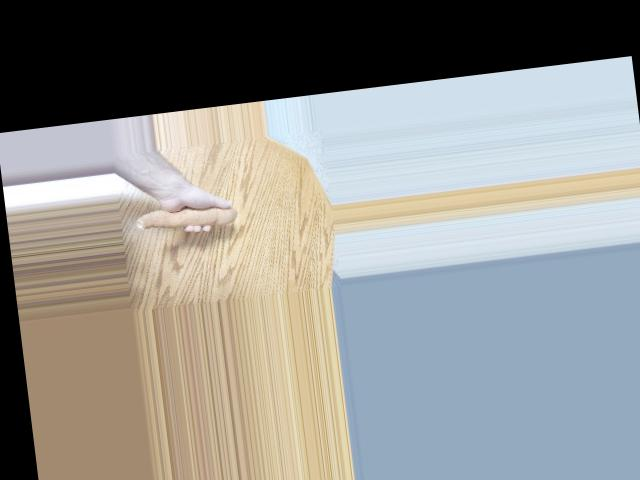sweet_potato: (133, 193, 246, 239)
